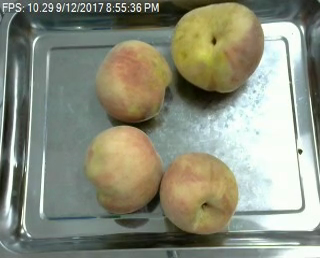Peach: (170, 1, 264, 92), (84, 124, 163, 213), (160, 151, 239, 234), (95, 38, 172, 123)
